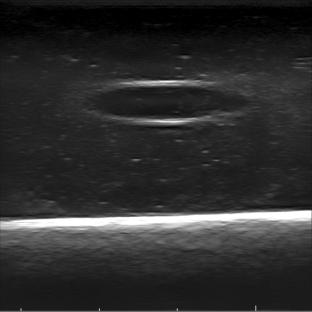vessel: (95, 77, 250, 126)
